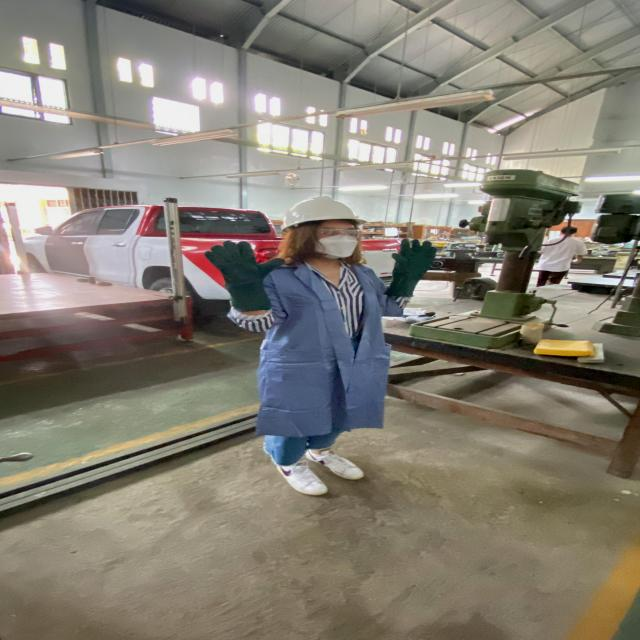face_mask: (309, 223, 363, 261)
glasses: (312, 225, 364, 240)
hand_glove: (198, 238, 290, 284), (387, 237, 443, 272)
head_helmet: (278, 194, 363, 231)
person: (203, 194, 448, 502)
shoes: (260, 448, 334, 500), (293, 441, 372, 482)
